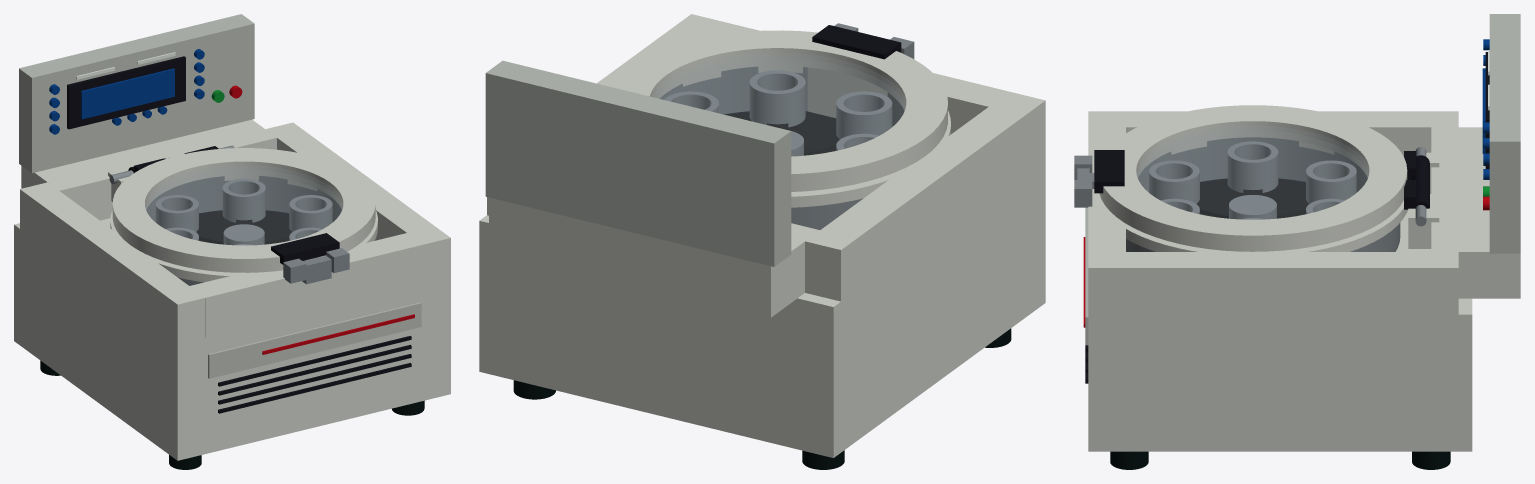
The picture shows the model from 3 angles, left to right: view 1: azimuth 30°, elevation 25°; view 2: azimuth 150°, elevation 25°; view 3: azimuth 270°, elevation 25°; orthographic projection. The views are drawn at different scales.
Parts seen in each view (by area): view 1: /Asset/Links/centrifuge_body/Visuals/main_enclosure/Geom, /Asset/Links/centrifuge_body/Visuals/control_console/Geom, /Asset/Links/safety_lid/Visuals/lid_outer_ring/Geom/mesh, /Asset/Links/centrifuge_body/Visuals/left_top_shoulder/Geom, /Asset/Links/safety_lid/Visuals/safety_window/Geom, /Asset/Links/centrifuge_body/Visuals/front_top_shoulder/Geom, /Asset/Links/centrifuge_body/Visuals/rear_top_shoulder/Geom, /Asset/Links/centrifuge_body/Visuals/front_identity_band/Geo, /Asset/Links/centrifuge_body/Visuals/right_top_shoulder/Geom, /Asset/Links/centrifuge_body/Visuals/chamber_wall/Geom/mesh, /Asset/Links/centrifuge_body/Visuals/display_bezel/Geom, /Asset/Links/centrifuge_body/Visuals/blue_lcd/Geom (+14 smaller); view 2: /Asset/Links/centrifuge_body/Visuals/main_enclosure/Geom, /Asset/Links/centrifuge_body/Visuals/control_console/Geom, /Asset/Links/centrifuge_body/Visuals/left_top_shoulder/Geom, /Asset/Links/safety_lid/Visuals/lid_outer_ring/Geom/mesh, /Asset/Links/centrifuge_body/Visuals/rear_top_shoulder/Geom, /Asset/Links/safety_lid/Visuals/safety_window/Geom, /Asset/Links/centrifuge_body/Visuals/front_top_shoulder/Geom, /Asset/Links/centrifuge_body/Visuals/chamber_wall/Geom/mesh, /Asset/Links/rotor/Visuals/cup_ring_5/Geom/mesh, /Asset/Links/rotor/Visuals/cup_ring_4/Geom/mesh, /Asset/Links/centrifuge_body/Visuals/chamber_trim/Geom/mesh, /Asset/Links/centrifuge_body/Visuals/right_top_shoulder/Geom (+4 smaller); view 3: /Asset/Links/centrifuge_body/Visuals/main_enclosure/Geom, /Asset/Links/centrifuge_body/Visuals/right_top_shoulder/Geom, /Asset/Links/safety_lid/Visuals/lid_outer_ring/Geom/mesh, /Asset/Links/safety_lid/Visuals/safety_window/Geom, /Asset/Links/centrifuge_body/Visuals/rear_top_shoulder/Geom, /Asset/Links/centrifuge_body/Visuals/control_console/Geom, /Asset/Links/centrifuge_body/Visuals/chamber_wall/Geom/mesh, /Asset/Links/centrifuge_body/Visuals/left_top_shoulder/Geom, /Asset/Links/centrifuge_body/Visuals/chamber_trim/Geom/mesh, /Asset/Links/centrifuge_body/Visuals/front_top_shoulder/Geom, /Asset/Links/rotor/Visuals/cup_ring_3/Geom/mesh, /Asset/Links/rotor/Visuals/cup_ring_4/Geom/mesh (+10 smaller).
Boxes of the visible parts, <box> form: /Asset/Links/centrifuge_body/Visuals/main_enclosure/Geom: <box>14,218,450,460</box>; /Asset/Links/centrifuge_body/Visuals/control_console/Geom: <box>19,14,254,173</box>; /Asset/Links/safety_lid/Visuals/lid_outer_ring/Geom/mesh: <box>112,148,375,272</box>; /Asset/Links/centrifuge_body/Visuals/left_top_shoulder/Geom: <box>20,182,205,344</box>; /Asset/Links/safety_lid/Visuals/safety_window/Geom: <box>145,169,342,244</box>; /Asset/Links/centrifuge_body/Visuals/front_top_shoulder/Geom: <box>190,233,422,337</box>; /Asset/Links/centrifuge_body/Visuals/rear_top_shoulder/Geom: <box>21,119,276,220</box>; /Asset/Links/centrifuge_body/Visuals/front_identity_band/Geo: <box>208,302,421,378</box>; /Asset/Links/centrifuge_body/Visuals/right_top_shoulder/Geom: <box>265,122,450,284</box>; /Asset/Links/centrifuge_body/Visuals/chamber_wall/Geom/mesh: <box>146,175,341,285</box>; /Asset/Links/centrifuge_body/Visuals/display_bezel/Geom: <box>67,56,185,129</box>; /Asset/Links/centrifuge_body/Visuals/blue_lcd/Geom: <box>81,68,174,119</box>; /Asset/Links/centrifuge_body/Visuals/main_enclosure/Geom: <box>479,152,1045,457</box>; /Asset/Links/centrifuge_body/Visuals/control_console/Geom: <box>485,60,791,266</box>; /Asset/Links/centrifuge_body/Visuals/left_top_shoulder/Geom: <box>805,91,1045,301</box>; /Asset/Links/safety_lid/Visuals/lid_outer_ring/Geom/mesh: <box>611,30,947,191</box>; /Asset/Links/centrifuge_body/Visuals/rear_top_shoulder/Geom: <box>489,197,819,317</box>; /Asset/Links/safety_lid/Visuals/safety_window/Geom: <box>654,58,905,155</box>; /Asset/Links/centrifuge_body/Visuals/front_top_shoulder/Geom: <box>709,23,1008,133</box>; /Asset/Links/centrifuge_body/Visuals/chamber_wall/Geom/mesh: <box>659,66,904,229</box>; /Asset/Links/rotor/Visuals/cup_ring_5/Geom/mesh: <box>749,70,805,127</box>; /Asset/Links/rotor/Visuals/cup_ring_4/Geom/mesh: <box>836,91,892,139</box>; /Asset/Links/centrifuge_body/Visuals/chamber_trim/Geom/mesh: <box>683,66,950,207</box>; /Asset/Links/centrifuge_body/Visuals/right_top_shoulder/Geom: <box>487,14,726,215</box>; /Asset/Links/centrifuge_body/Visuals/main_enclosure/Geom: <box>1088,194,1472,451</box>; /Asset/Links/centrifuge_body/Visuals/right_top_shoulder/Geom: <box>1088,252,1458,314</box>; /Asset/Links/safety_lid/Visuals/lid_outer_ring/Geom/mesh: <box>1099,105,1407,251</box>; /Asset/Links/safety_lid/Visuals/safety_window/Geom: <box>1137,130,1368,219</box>; /Asset/Links/centrifuge_body/Visuals/rear_top_shoulder/Geom: <box>1431,127,1520,298</box>; /Asset/Links/centrifuge_body/Visuals/control_console/Geom: <box>1489,14,1520,253</box>; /Asset/Links/centrifuge_body/Visuals/chamber_wall/Geom/mesh: <box>1126,137,1400,251</box>; /Asset/Links/centrifuge_body/Visuals/left_top_shoulder/Geom: <box>1088,111,1458,156</box>; /Asset/Links/centrifuge_body/Visuals/chamber_trim/Geom/mesh: <box>1126,141,1407,251</box>; /Asset/Links/centrifuge_body/Visuals/front_top_shoulder/Geom: <box>1088,127,1125,251</box>; /Asset/Links/rotor/Visuals/cup_ring_3/Geom/mesh: <box>1227,141,1278,192</box>; /Asset/Links/rotor/Visuals/cup_ring_4/Geom/mesh: <box>1149,160,1199,203</box>.
Size of the model in its own units: 0.54 by 0.515 by 0.65.
